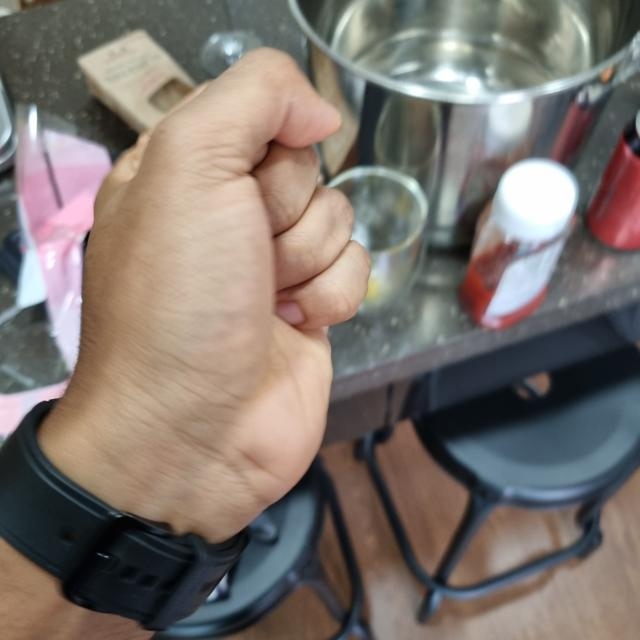Rock: (58, 49, 365, 518)
